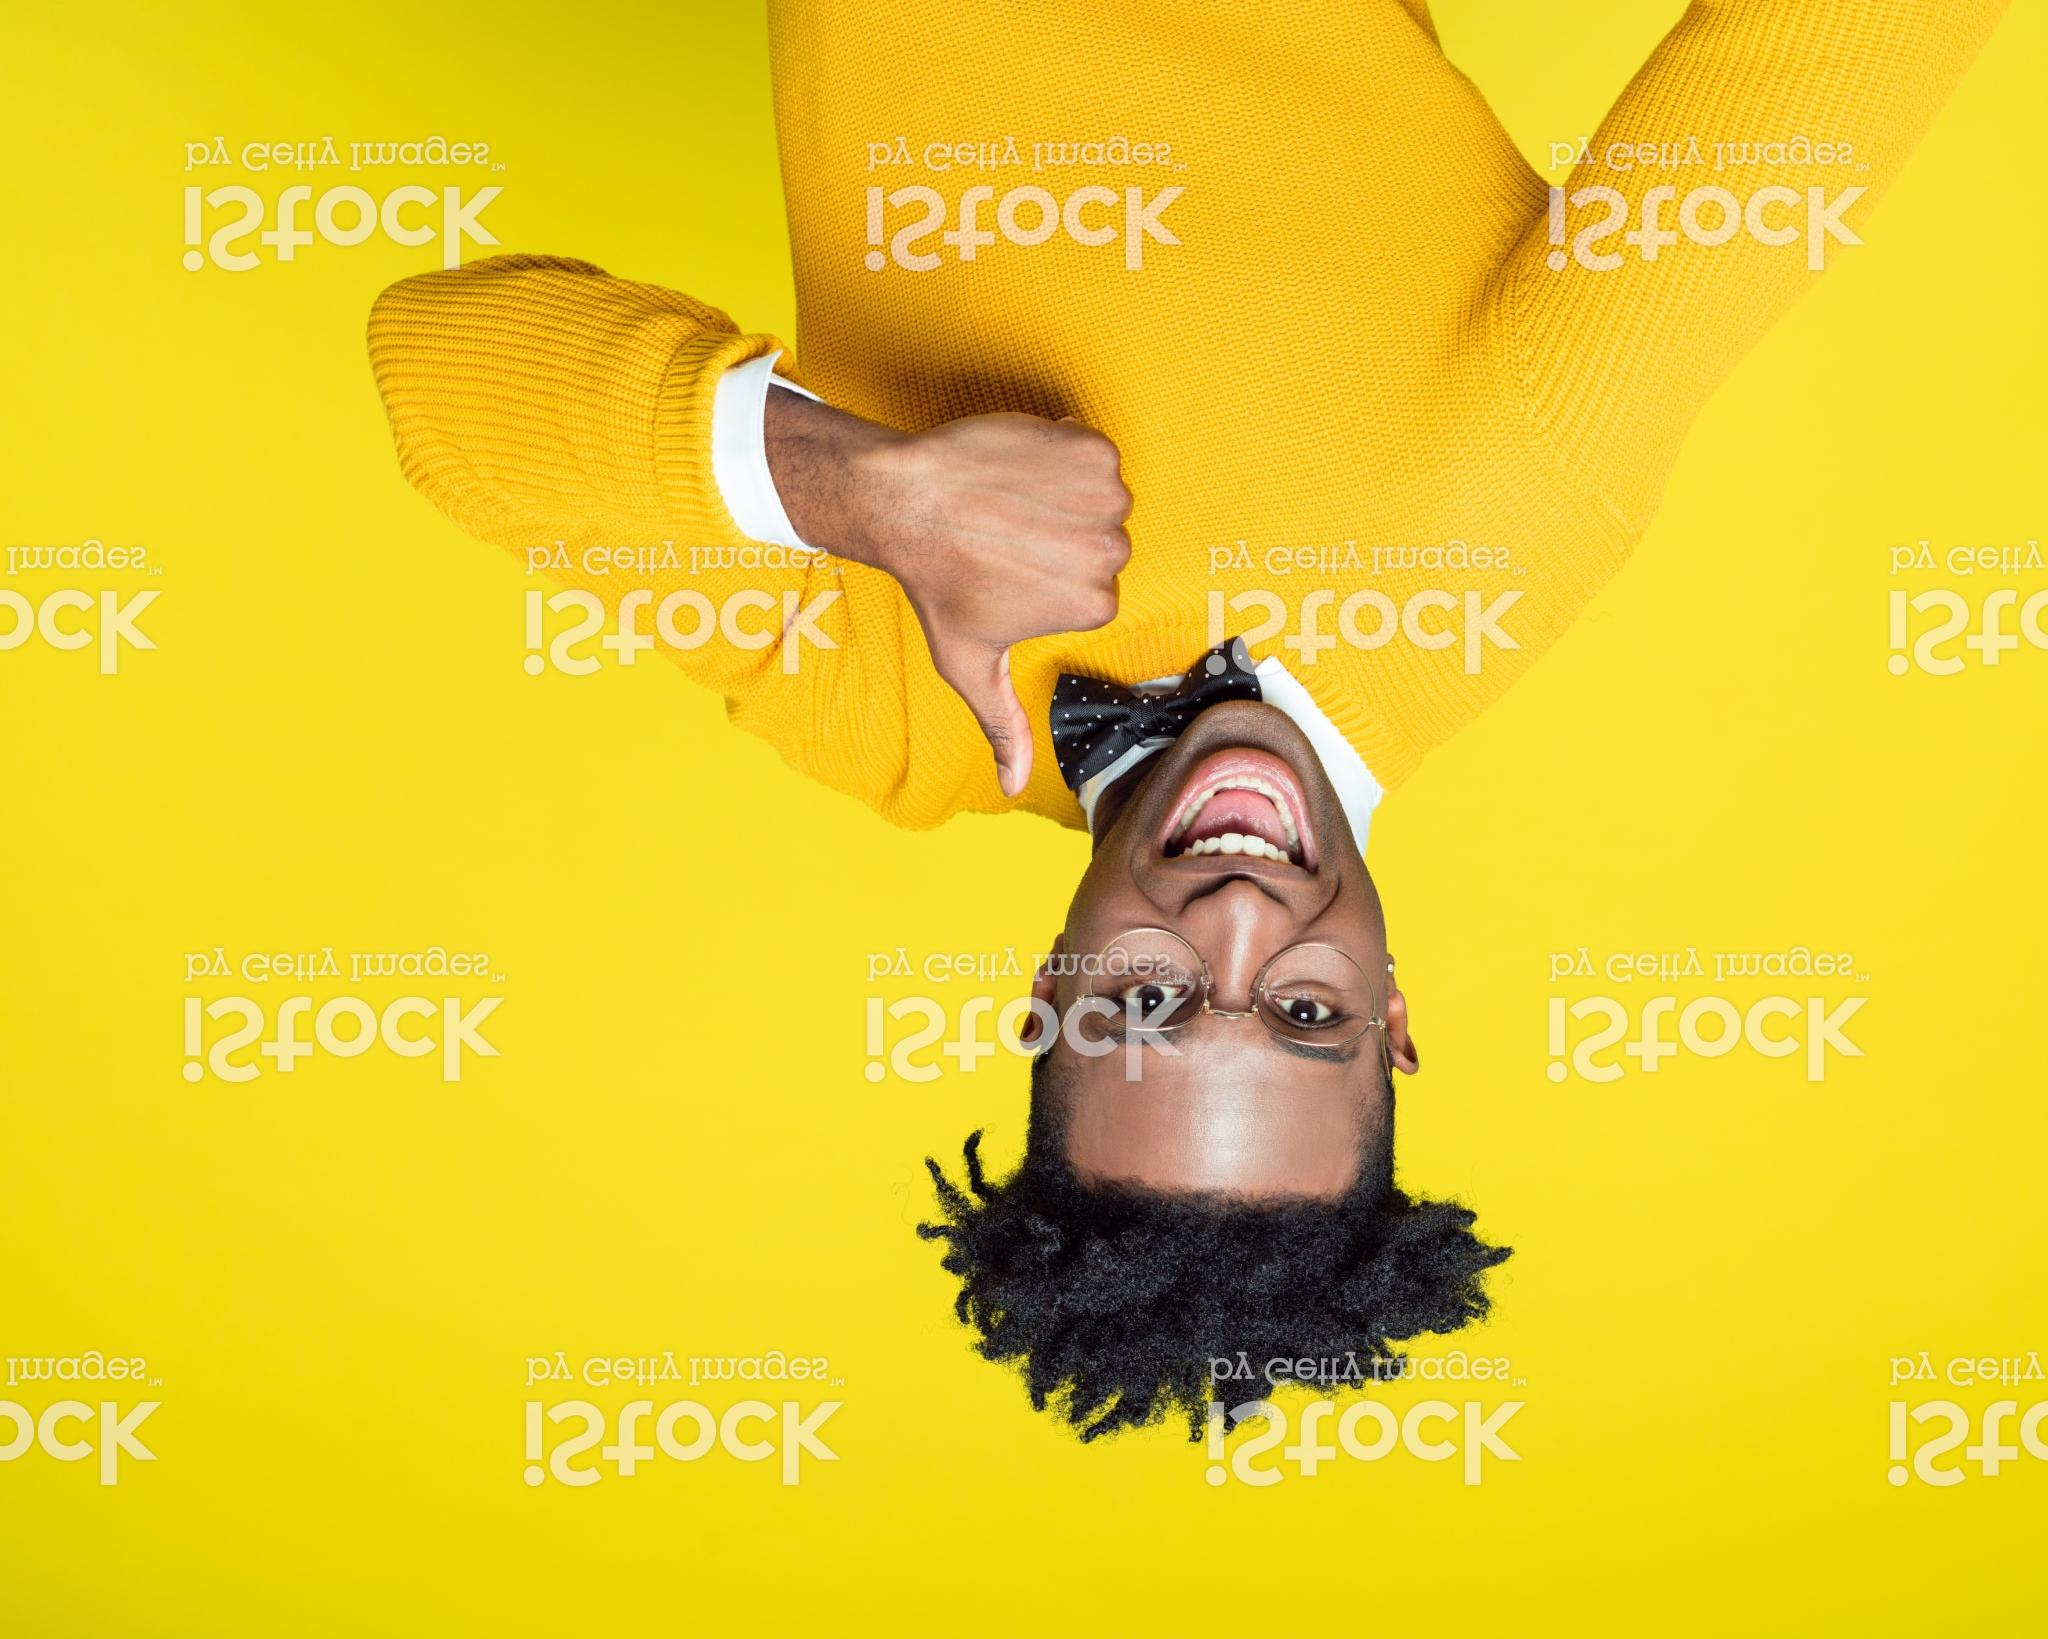thumbsdown: (883, 396, 1137, 803)
